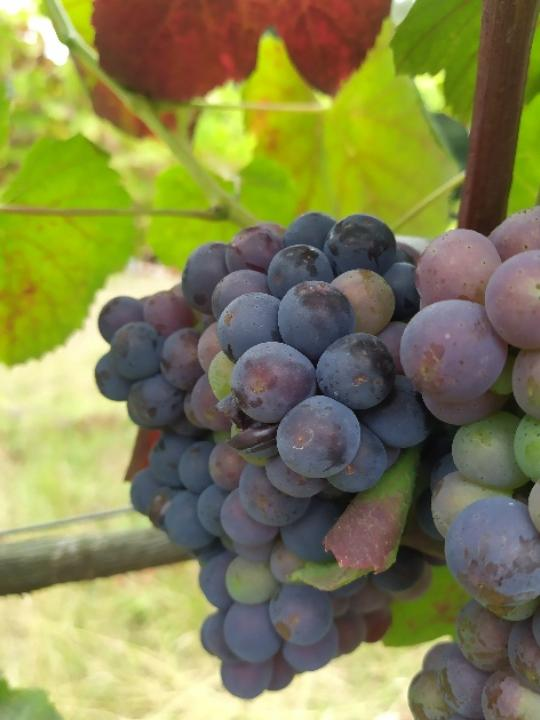grape: (90, 204, 477, 705)
